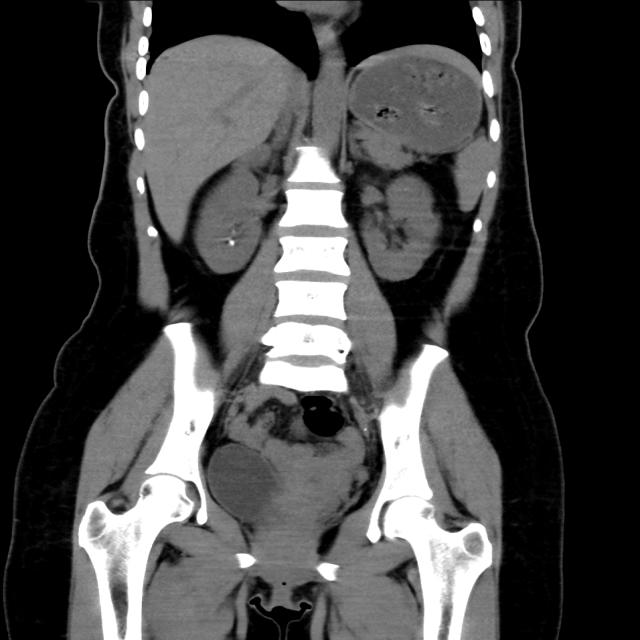kidneystone: (227, 236, 236, 247)
